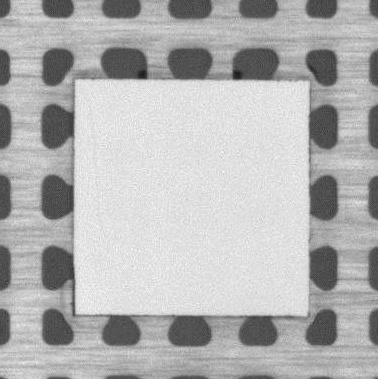DIE_CRACK: (90, 104, 112, 232)
